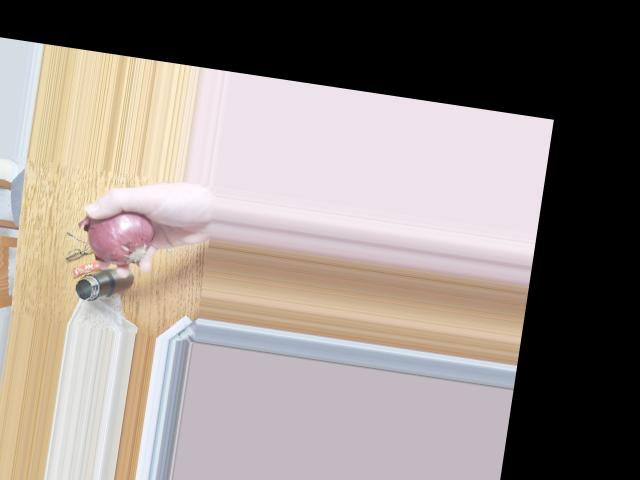onion: (91, 199, 154, 260)
